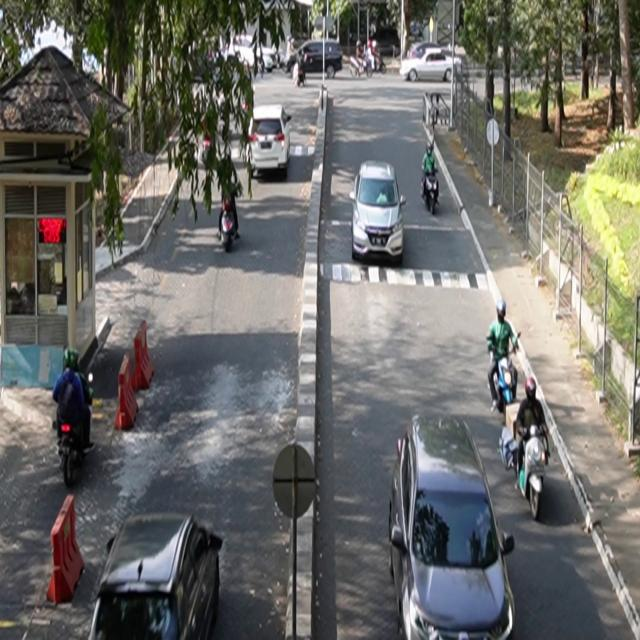car: (389, 413, 517, 640), (88, 512, 224, 640), (351, 160, 408, 265), (248, 104, 293, 179), (401, 50, 464, 83)
